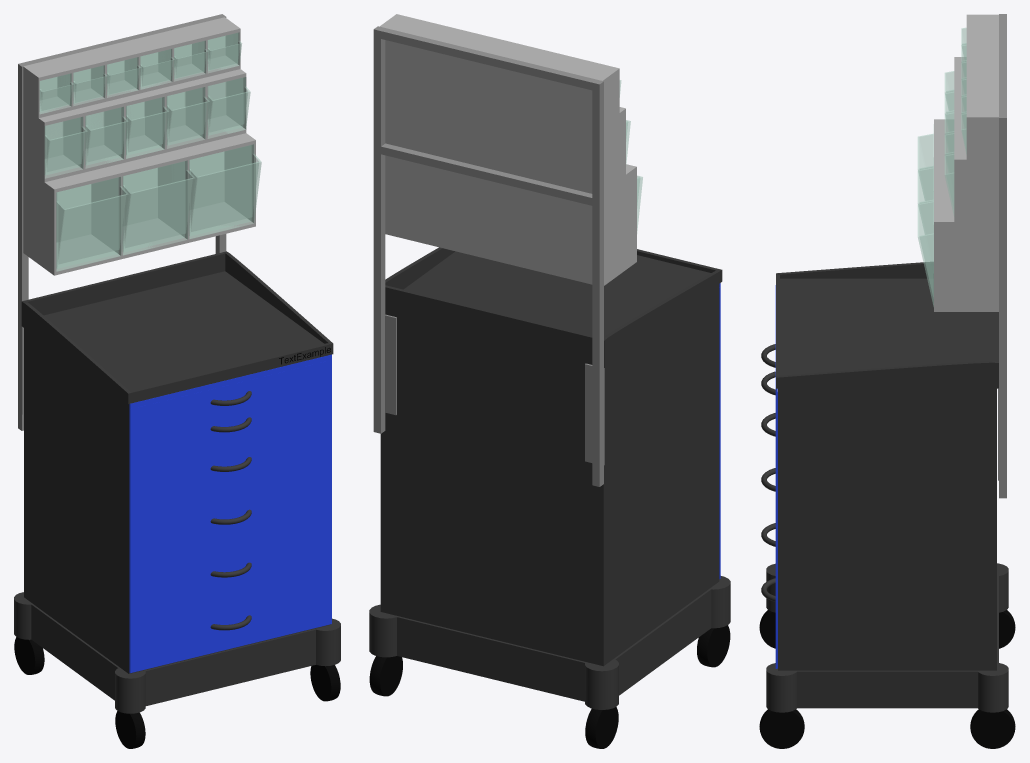
Rendered from Anethesia Cart v2.2.FBX.
3 views of the same model, side by side, from view 1: azimuth 30°, elevation 25°; view 2: azimuth 150°, elevation 25°; view 3: azimuth 270°, elevation 25° (orthographic). The views are drawn at different scales.
Visible parts, largest first — view 1: DrawerContainerTop, DrawerContainer, TopWorkspace, BottomSupport, DrawerB02, DrawerB03, DrawerB01, DrawerB04, DrawerTB01, DrawerTB03, DrawerTB02, DrawerS01 (+17 smaller); view 2: DrawerContainer, DrawerContainerTop, TopWorkspace, DrawerContainerTopHolder, BottomSupport, Wheel01, Wheel04, Wheel02; view 3: DrawerContainer, TopWorkspace, DrawerContainerTop, BottomSupport, DrawerContainerTopHolder, Wheel03, Wheel04, DrawerTB03, DrawerTB01, DrawerTB02, Wheel01, Wheel02 (+1 smaller).
Boxes of the visible parts, bbox=[...] form: DrawerContainerTop: bbox=[23, 17, 255, 275]; DrawerContainer: bbox=[24, 328, 330, 673]; TopWorkspace: bbox=[21, 251, 333, 403]; BottomSupport: bbox=[14, 592, 340, 713]; DrawerB02: bbox=[129, 465, 331, 567]; DrawerB03: bbox=[129, 518, 331, 620]; DrawerB01: bbox=[129, 413, 331, 514]; DrawerB04: bbox=[129, 571, 331, 673]; DrawerTB01: bbox=[56, 177, 128, 271]; DrawerTB03: bbox=[189, 144, 261, 238]; DrawerTB02: bbox=[122, 160, 195, 255]; DrawerS01: bbox=[129, 360, 331, 435]; DrawerContainer: bbox=[380, 284, 719, 666]; DrawerContainerTop: bbox=[380, 14, 636, 285]; TopWorkspace: bbox=[385, 247, 722, 367]; DrawerContainerTopHolder: bbox=[373, 26, 604, 486]; BottomSupport: bbox=[369, 576, 730, 709]; Wheel01: bbox=[585, 707, 618, 748]; Wheel04: bbox=[369, 656, 402, 696]; Wheel02: bbox=[697, 625, 730, 667]; DrawerContainer: bbox=[778, 388, 996, 670]; TopWorkspace: bbox=[776, 262, 998, 388]; DrawerContainerTop: bbox=[934, 14, 998, 311]; BottomSupport: bbox=[766, 563, 1008, 712]; DrawerContainerTopHolder: bbox=[998, 14, 1006, 498]; Wheel03: bbox=[759, 709, 804, 748]; Wheel04: bbox=[970, 709, 1015, 748]; DrawerTB03: bbox=[917, 192, 933, 306]; DrawerTB01: bbox=[917, 124, 933, 200]; DrawerTB02: bbox=[917, 158, 933, 234]; Wheel01: bbox=[999, 610, 1015, 648]; Wheel02: bbox=[759, 610, 775, 648].
Bounding box in the file's own units: 66 × 172 × 63.17.
